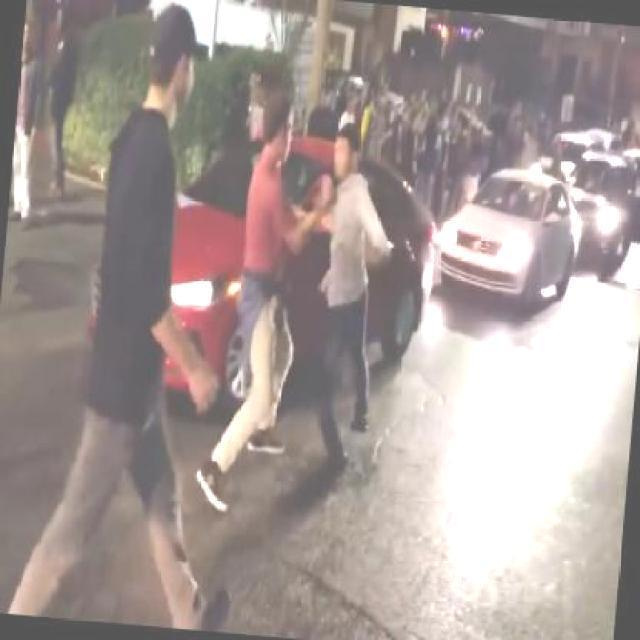fight: (202, 99, 395, 510)
